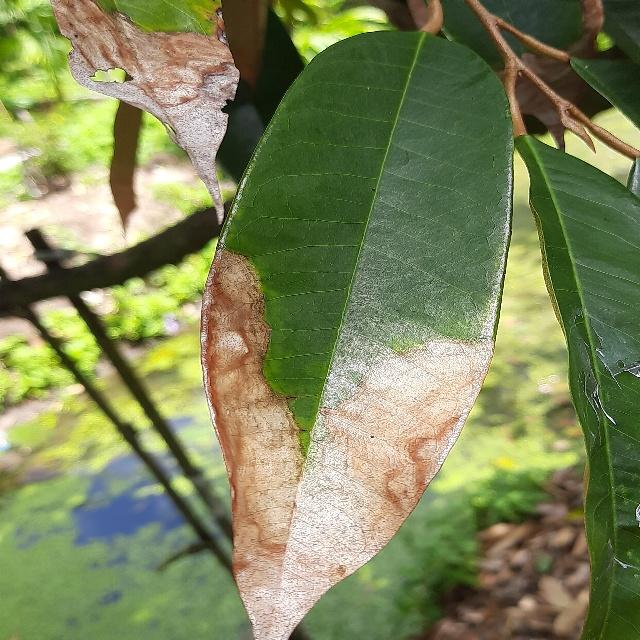Leaf Blight: (195, 19, 523, 640)
